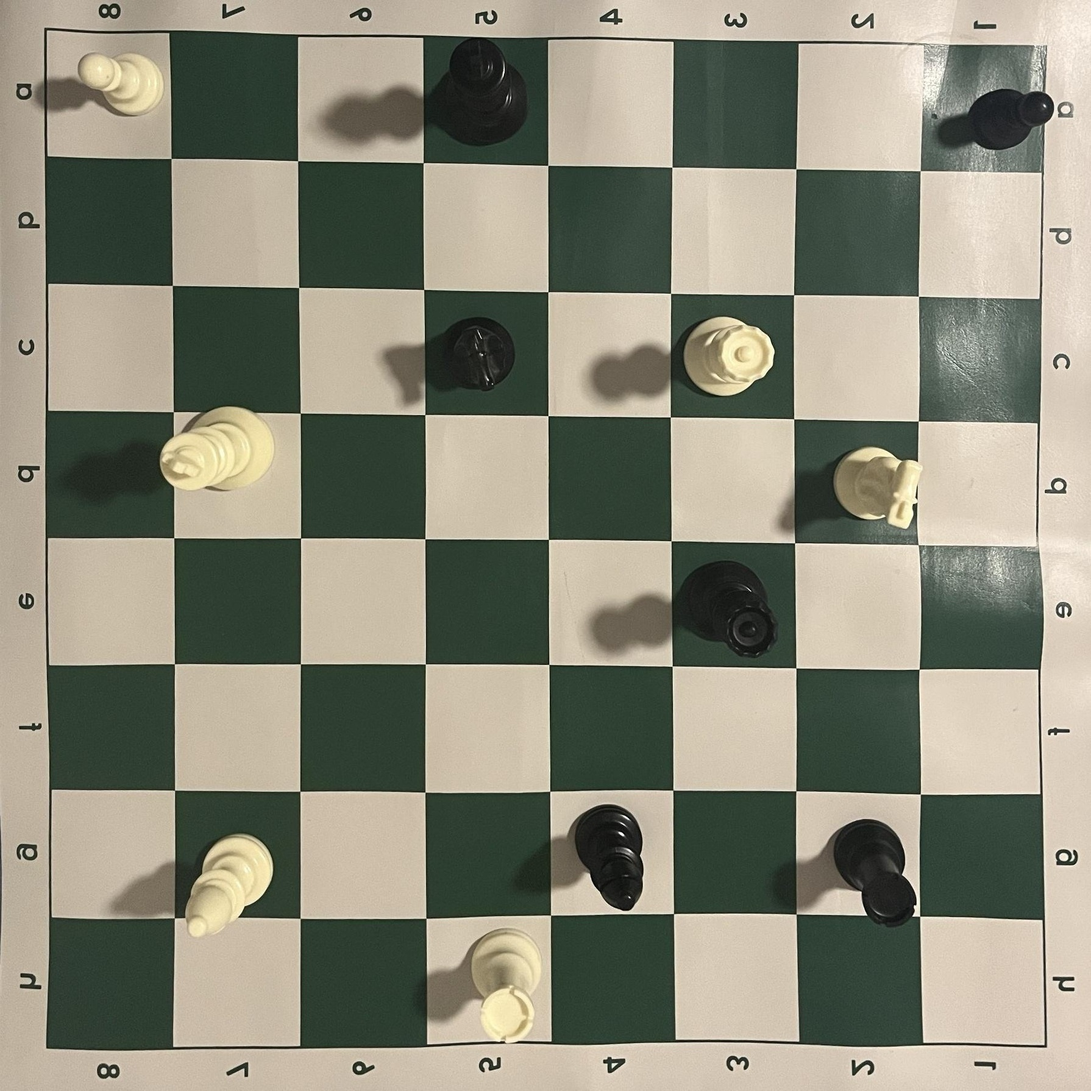black_bishop: (572, 803, 645, 912)
black_king: (429, 37, 529, 147)
black_knight: (435, 316, 517, 394)
black_pawn: (967, 88, 1054, 151)
black_queen: (678, 560, 778, 659)
black_rook: (831, 818, 919, 929)
white_bishop: (185, 833, 274, 939)
white_king: (159, 405, 276, 492)
white_knight: (831, 444, 923, 531)
white_pawn: (77, 51, 165, 118)
white_queen: (681, 316, 776, 397)
white_rook: (469, 926, 543, 1045)
